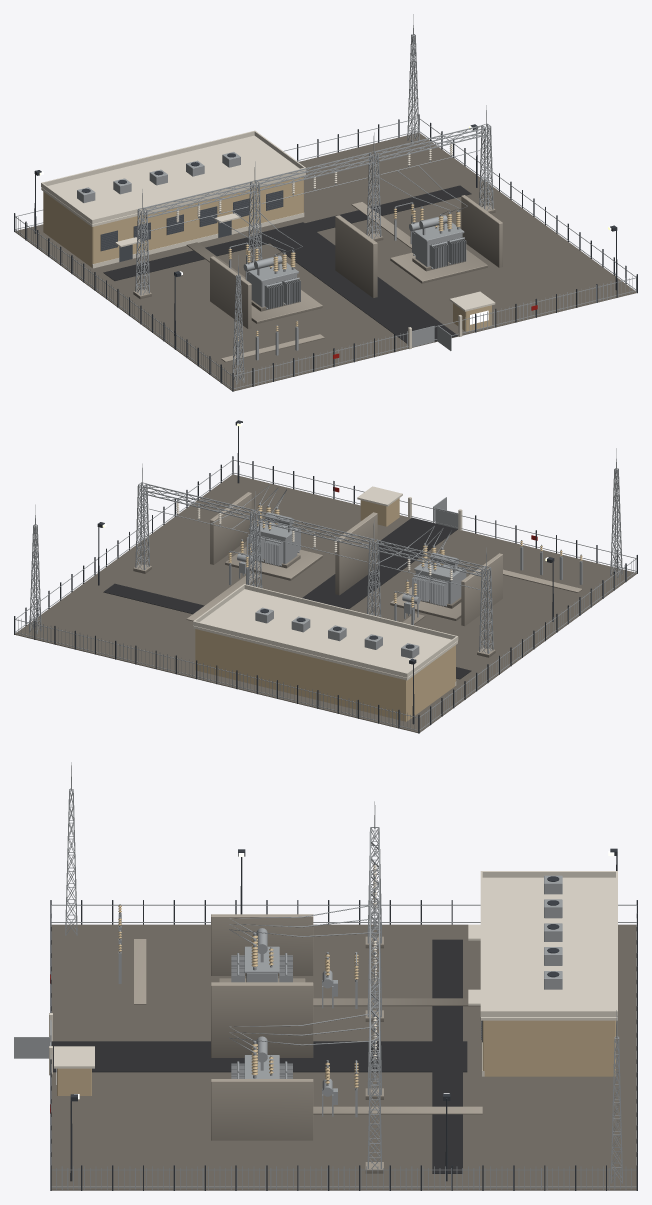
Rendered from substation.glb.
3 views of the same model, one above another, from view 1: azimuth 30°, elevation 25°; view 2: azimuth 150°, elevation 25°; view 3: azimuth 270°, elevation 25° (orthographic). The views are drawn at different scales.
Parts seen in each view (by area): view 1: substation_v0; view 2: substation_v0; view 3: substation_v0.
Boxes of the visible parts, x1,y1,x2,y2 form: substation_v0: [14, 14, 637, 391]; substation_v0: [14, 420, 637, 733]; substation_v0: [14, 762, 637, 1190].
Size of the model in its own units: 61.32 by 18.5 by 60.86.
